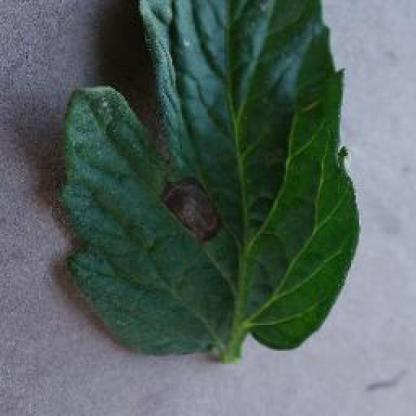Tomato_Blight: (58, 0, 360, 352)
